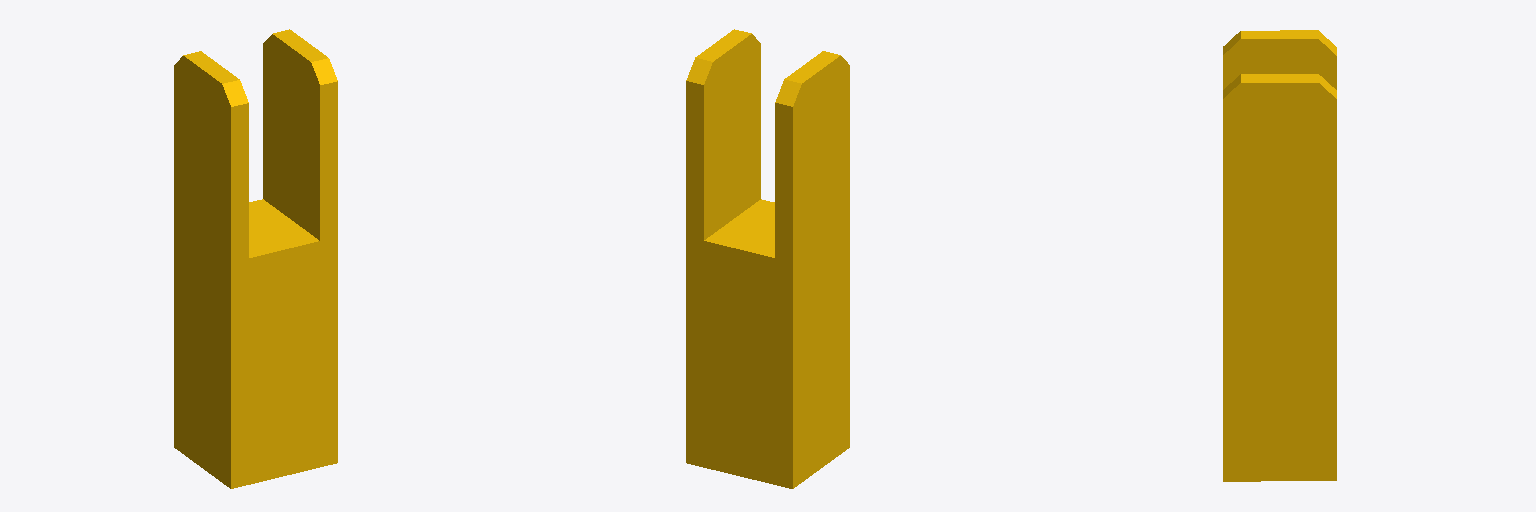
The picture shows the model from 3 angles: view 1: azimuth 30°, elevation 25°; view 2: azimuth 150°, elevation 25°; view 3: azimuth 270°, elevation 25°; orthographic projection.
Parts seen in each view (by area): view 1: bottom_holder_Cube.568; view 2: bottom_holder_Cube.568; view 3: bottom_holder_Cube.568.
Boxes of the visible parts, <box> form: bottom_holder_Cube.568: <box>174,29,337,488</box>; bottom_holder_Cube.568: <box>686,29,849,488</box>; bottom_holder_Cube.568: <box>1223,30,1336,481</box>.
Size of the model in its own units: 0.0104 by 0.0371 by 0.0097.
Materials: 1 (1 with a texture image).